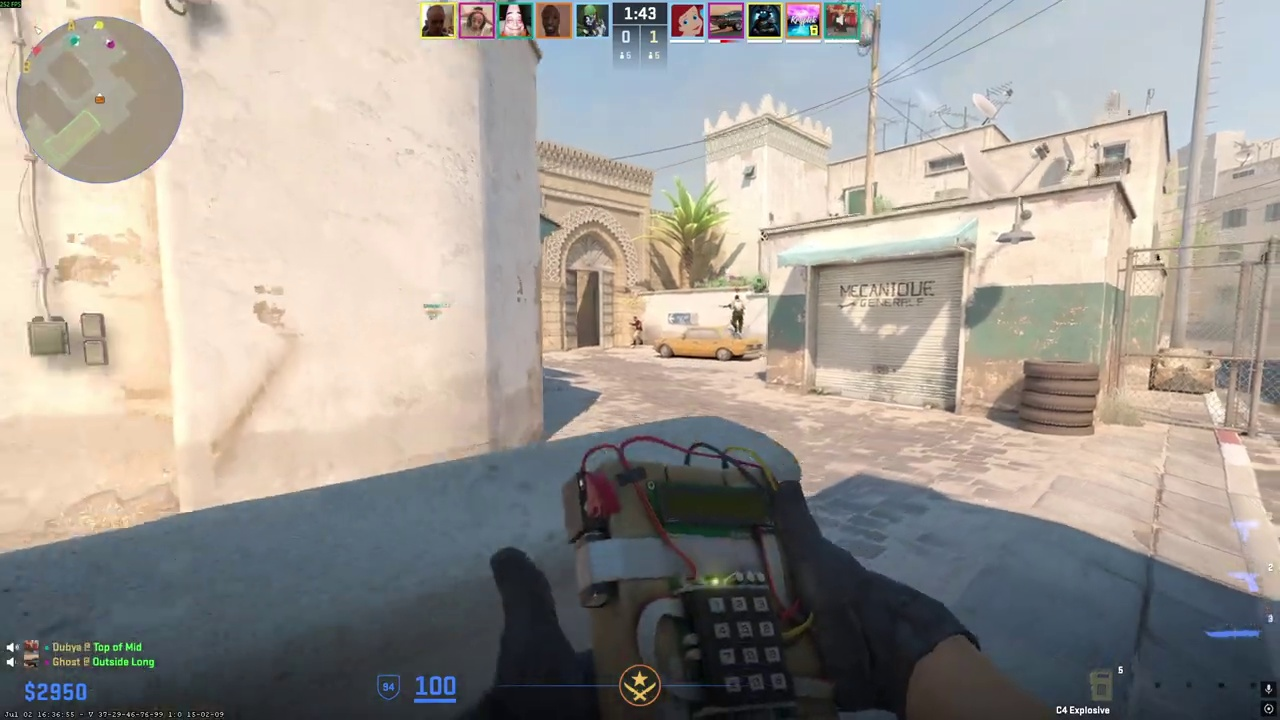Terrorist: (729, 294, 745, 333), (630, 316, 643, 345)
